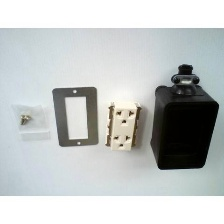three_eye_plug: (147, 79, 220, 171), (101, 95, 144, 154)
